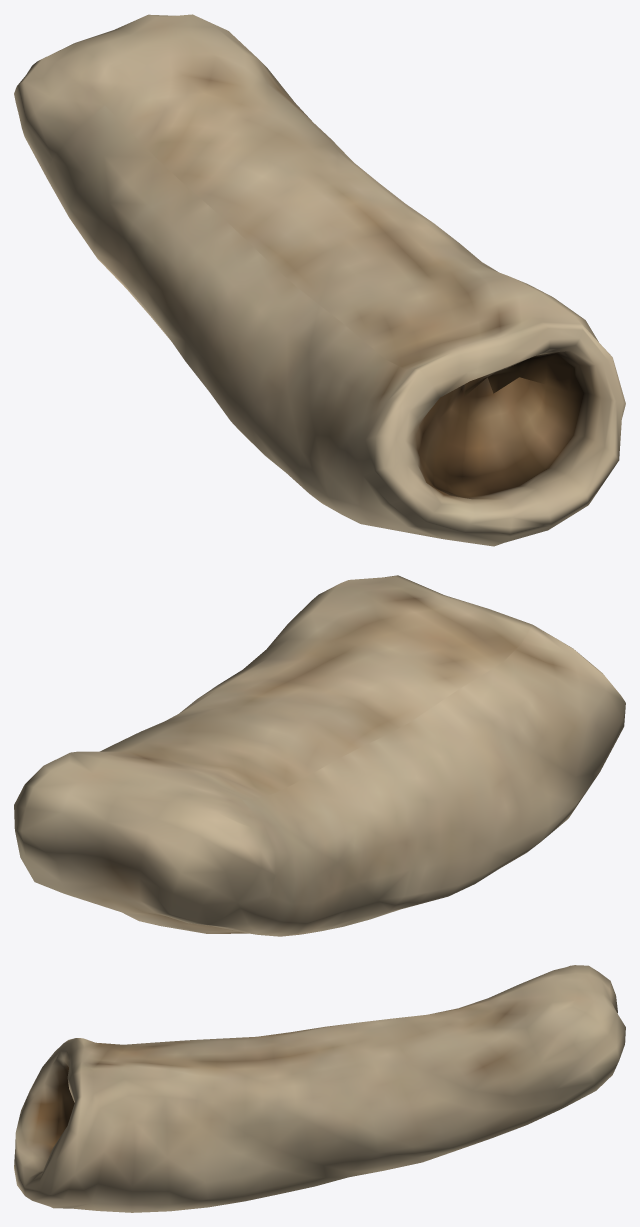
File: Lower_Incisor4.glb
3 views of the same model, one above another, from view 1: azimuth 30°, elevation 25°; view 2: azimuth 150°, elevation 25°; view 3: azimuth 270°, elevation 25° (orthographic). The views are drawn at different scales.
Parts seen in each view (by area): view 1: Lower_Incisor4.glb; view 2: Lower_Incisor4.glb; view 3: Lower_Incisor4.glb.
Boxes of the visible parts, bbox=[...] form: Lower_Incisor4.glb: bbox=[14, 14, 625, 546]; Lower_Incisor4.glb: bbox=[14, 575, 625, 936]; Lower_Incisor4.glb: bbox=[14, 965, 625, 1212].
Size of the model in its own units: 0.0127 by 0.0119 by 0.0326.
Materials: 1 (1 with a texture image).
